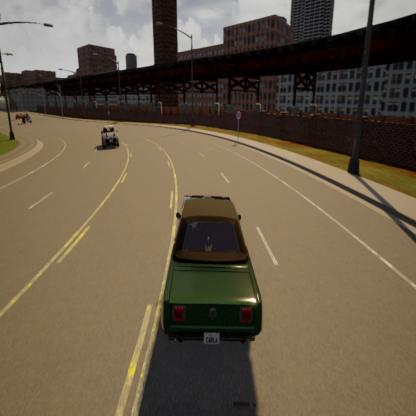Cars: (159, 191, 269, 356), (100, 123, 122, 153), (22, 112, 32, 124), (16, 112, 22, 121)
